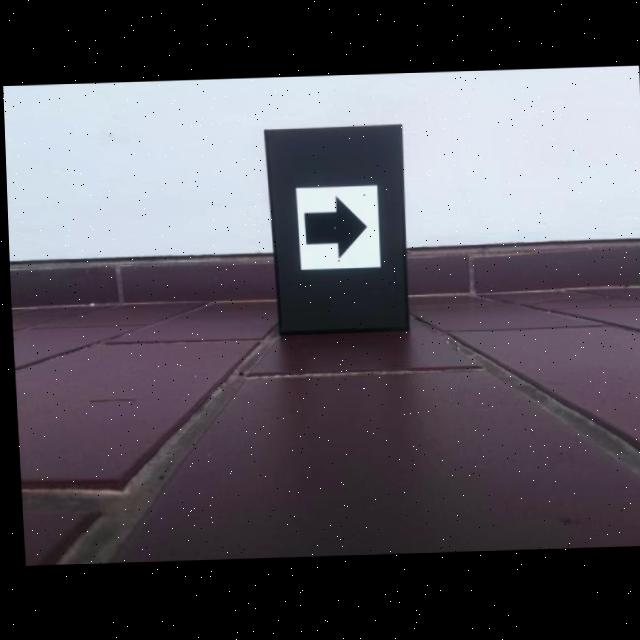RIGHT: (302, 196, 366, 262)
